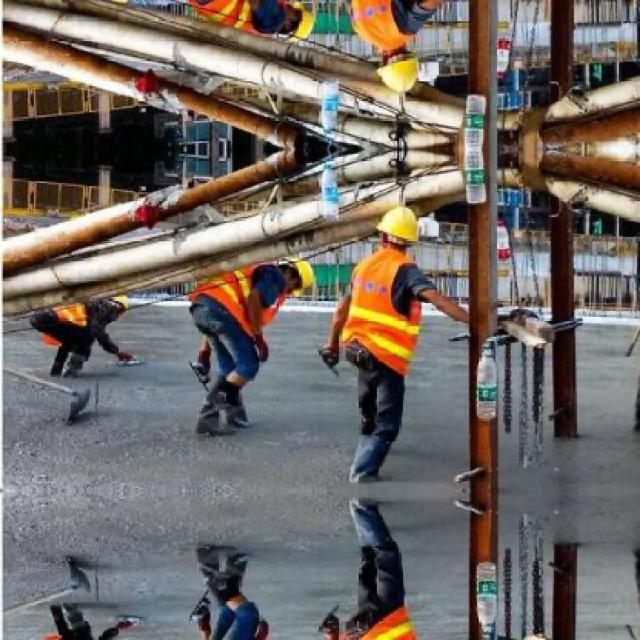con casco: (354, 195, 432, 235)
